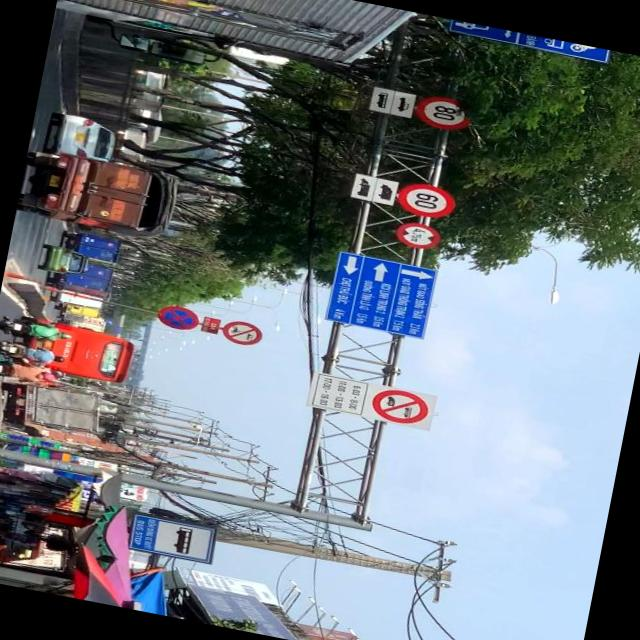P-117: (392, 220, 440, 252)
P-130: (156, 304, 200, 332)
